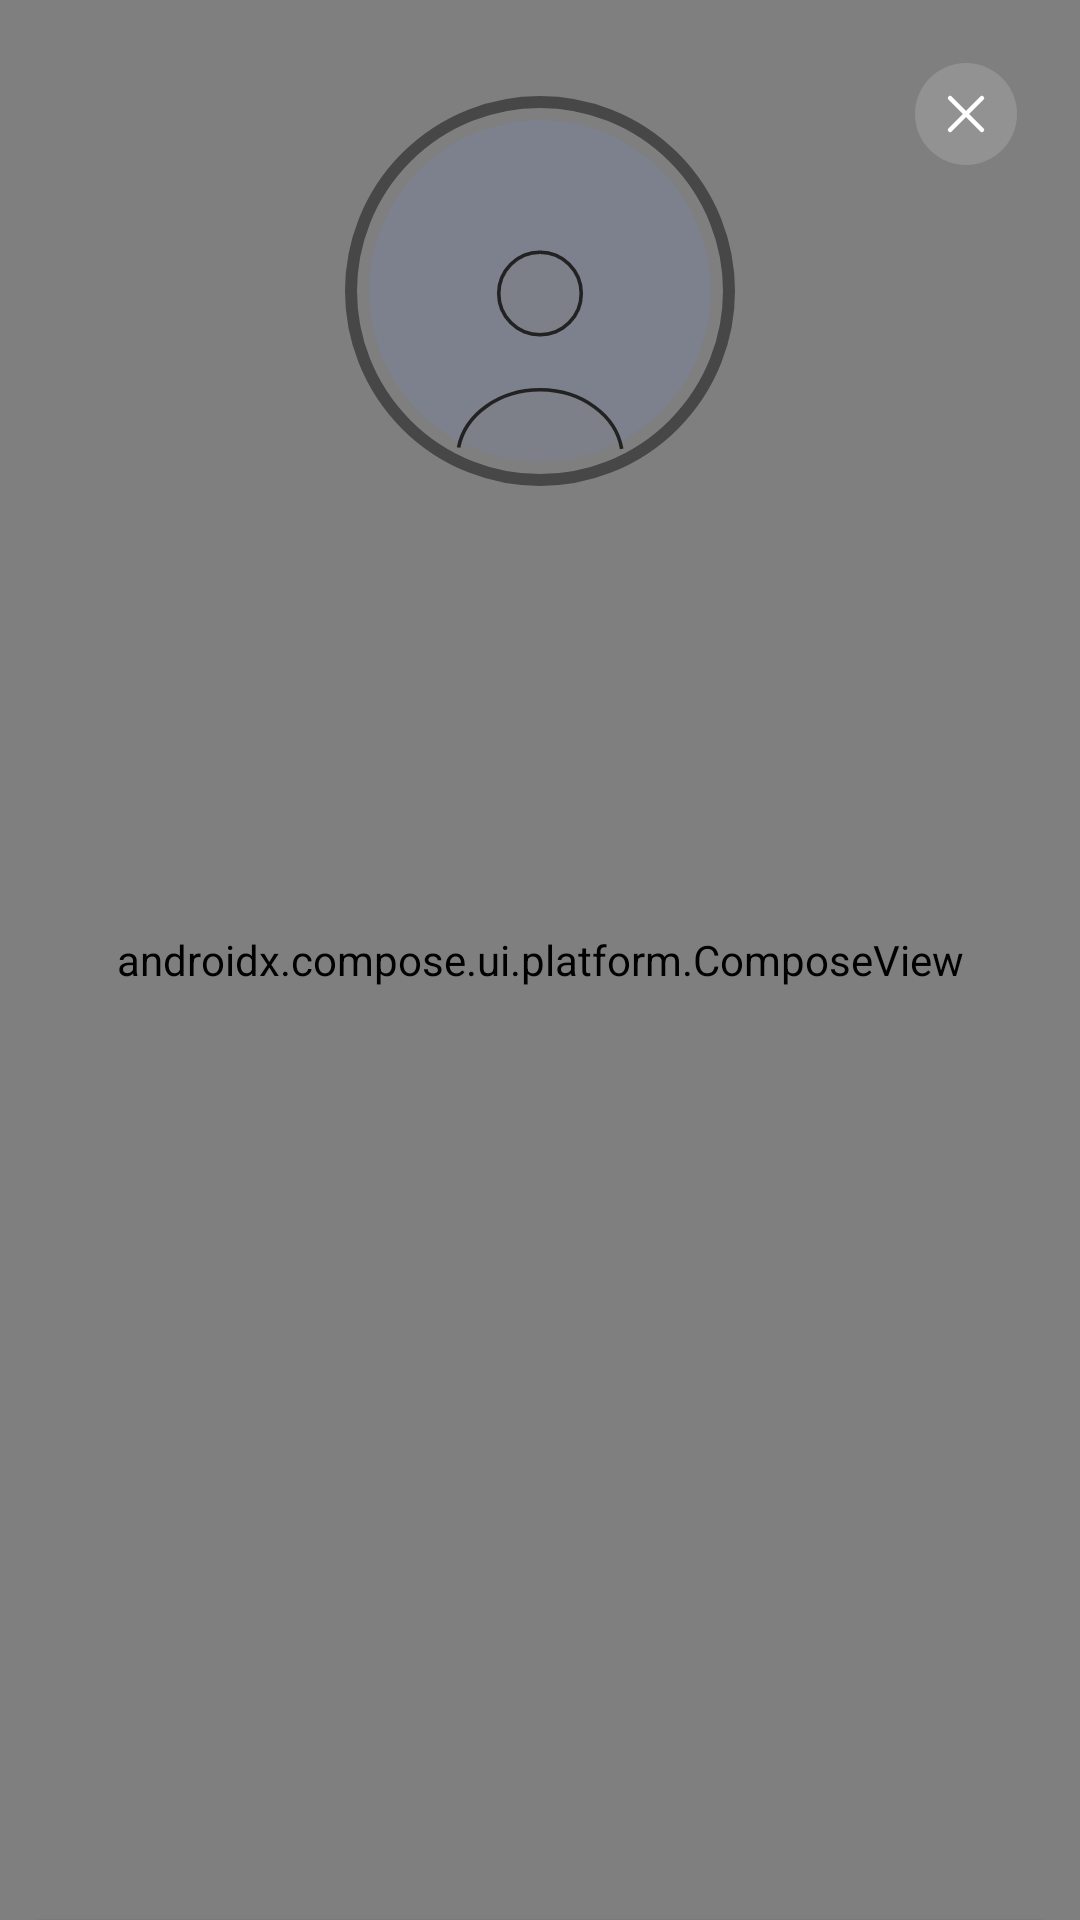

Locate icon controls on the screen. Image size 1080 x 1920, boxes as [left=x1, top=y1, right=x2, bottom=y2].
close button: [left=915, top=63, right=1017, bottom=165]
